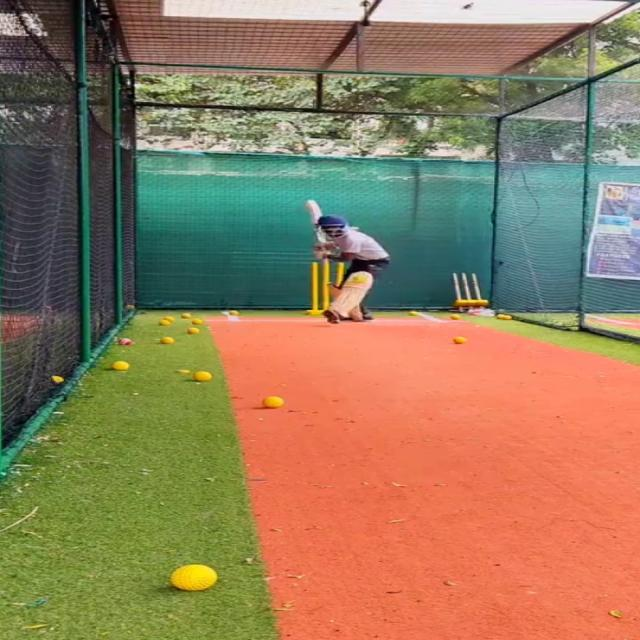ball: (159, 558, 224, 594), (262, 395, 286, 410), (109, 360, 133, 371), (191, 370, 212, 381), (158, 334, 174, 345), (450, 335, 467, 345), (116, 337, 133, 346), (184, 327, 199, 335), (154, 319, 171, 326), (494, 314, 512, 320), (178, 311, 191, 319), (449, 313, 460, 320), (226, 308, 237, 314), (191, 318, 201, 324)
stump: (307, 260, 332, 317)
